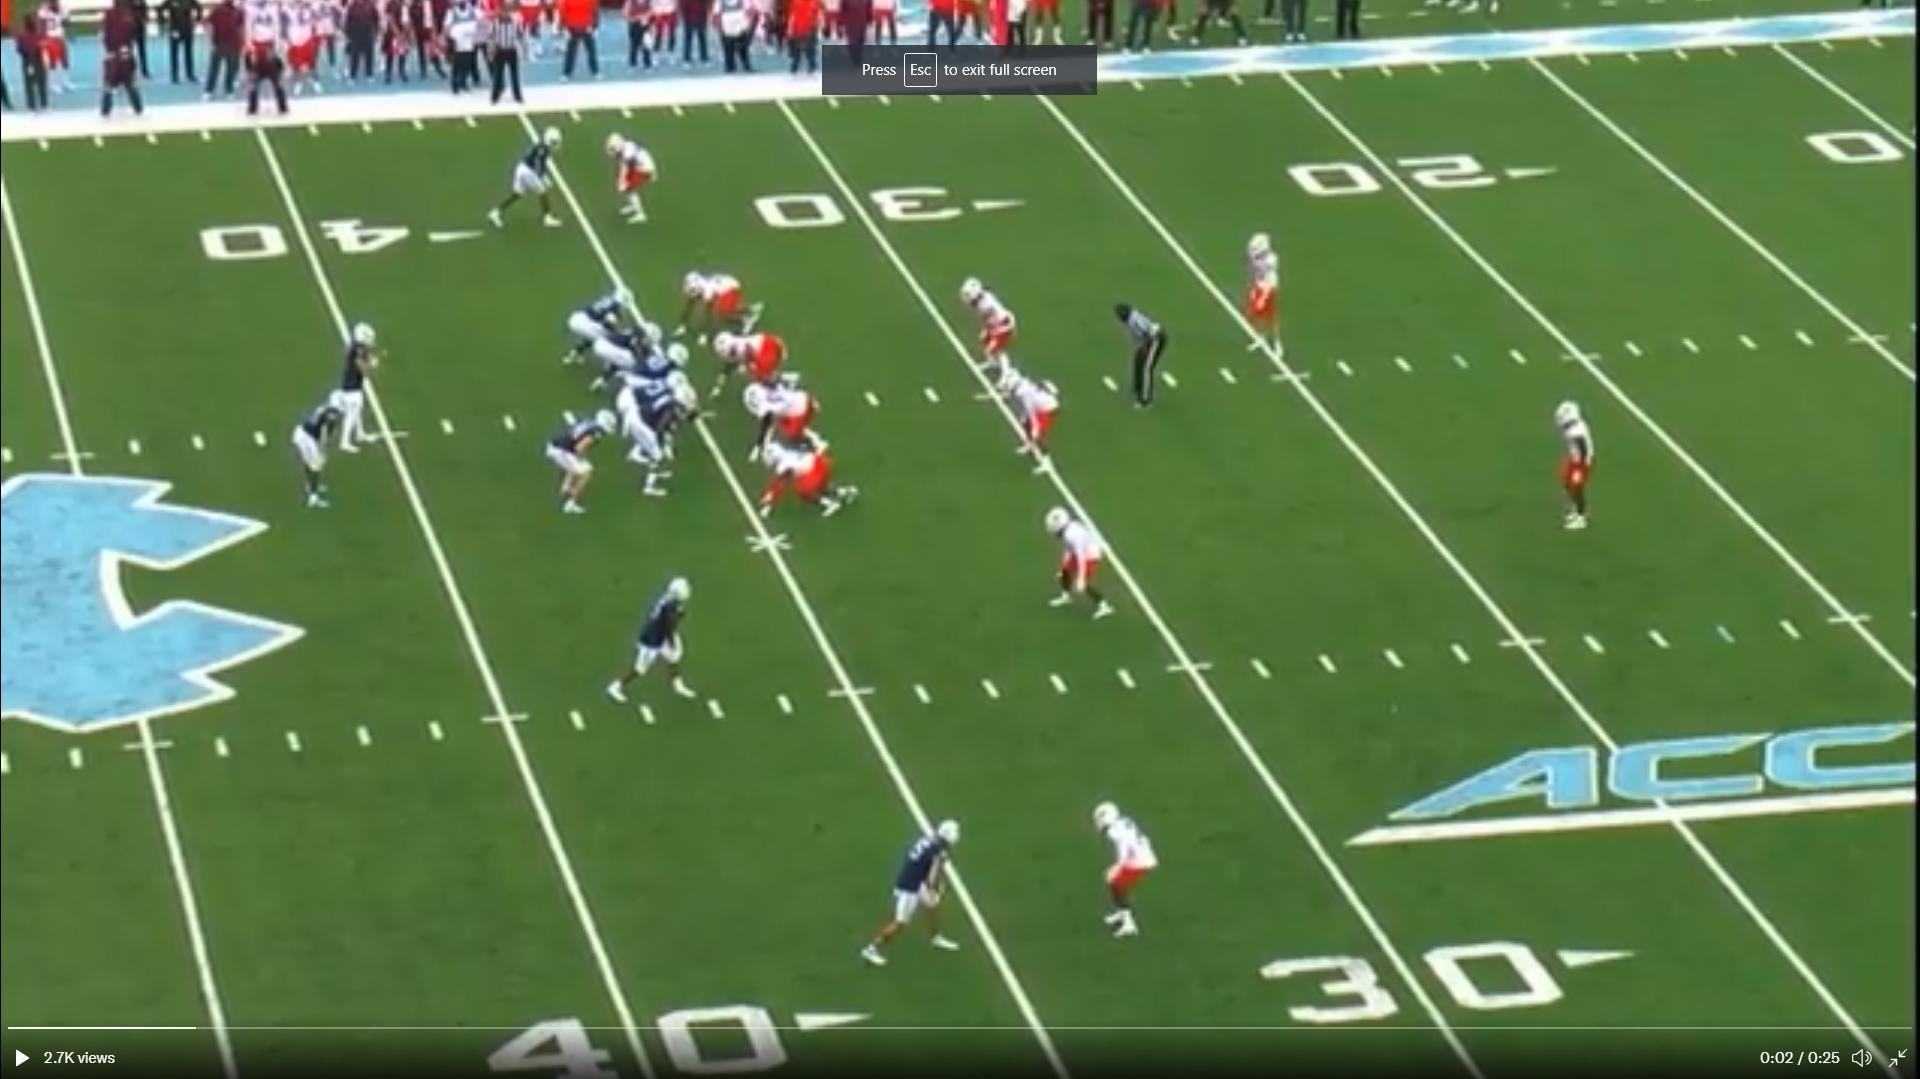defense: (1082, 793, 1158, 948), (751, 438, 864, 523), (1042, 501, 1117, 628), (741, 379, 834, 467), (1000, 364, 1067, 479), (677, 267, 770, 344), (957, 273, 1016, 392), (1552, 397, 1601, 540), (1240, 229, 1291, 364), (605, 127, 663, 234), (709, 330, 797, 397)
oline: (626, 385, 698, 502), (615, 368, 687, 464), (560, 284, 625, 374), (616, 338, 692, 412), (589, 321, 657, 403)
qb: (342, 311, 394, 455)
ref: (1115, 299, 1174, 414), (480, 7, 526, 114)
skill: (849, 816, 966, 979), (596, 571, 704, 714), (485, 122, 566, 237), (541, 408, 617, 523), (283, 385, 342, 516)
